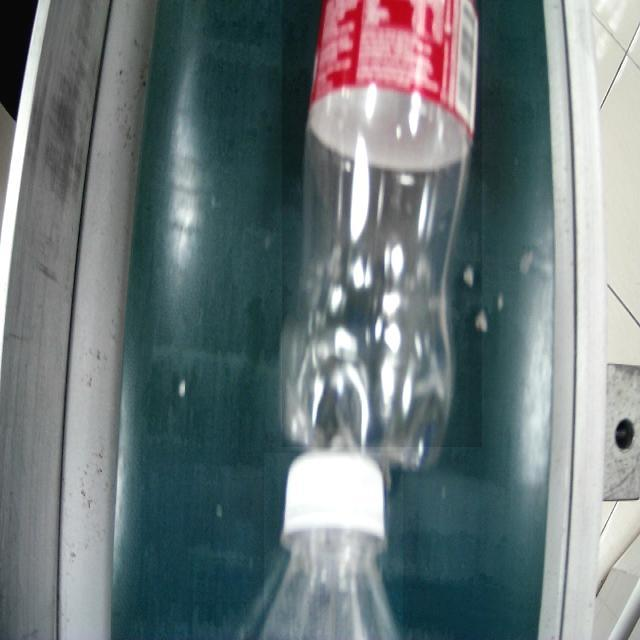Pet_Bottle: (282, 0, 482, 447), (264, 453, 403, 640)
